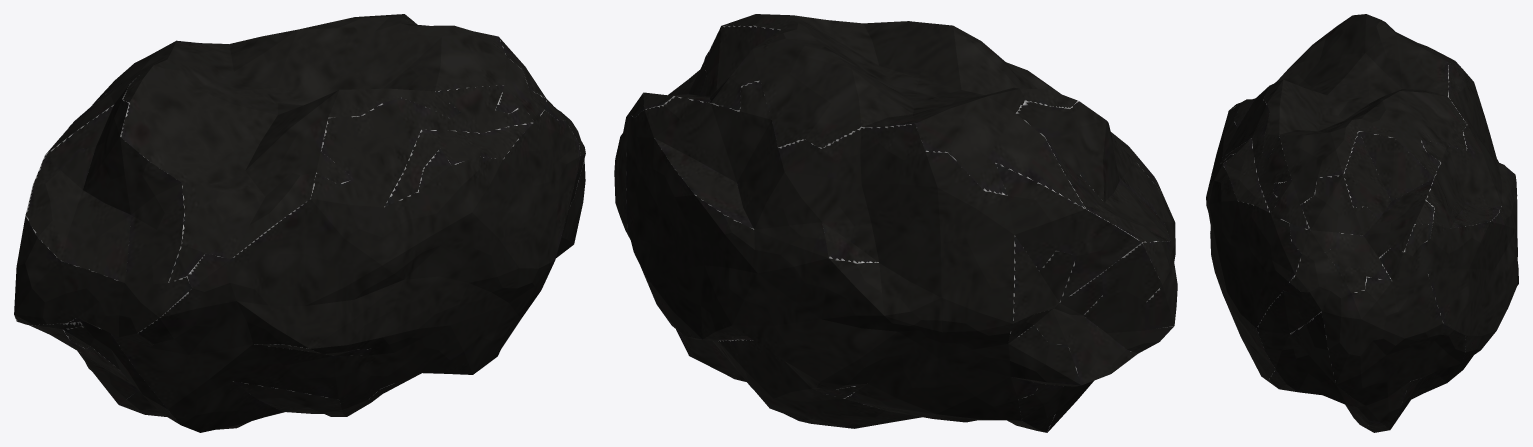
File: asteroid3.dae
The picture shows the model from 3 angles, left to right: view 1: azimuth 30°, elevation 25°; view 2: azimuth 150°, elevation 25°; view 3: azimuth 270°, elevation 25°; orthographic projection. The views are drawn at different scales.
Parts seen in each view (by area): view 1: asteroid3; view 2: asteroid3; view 3: asteroid3.
Boxes of the visible parts, x1=… form: asteroid3: x1=14, y1=14, x2=585, y2=432; asteroid3: x1=614, y1=14, x2=1177, y2=432; asteroid3: x1=1206, y1=14, x2=1518, y2=432.
Bounding box in the file's own units: 416 × 259 × 247.
Materials: 1 (1 with a texture image).
